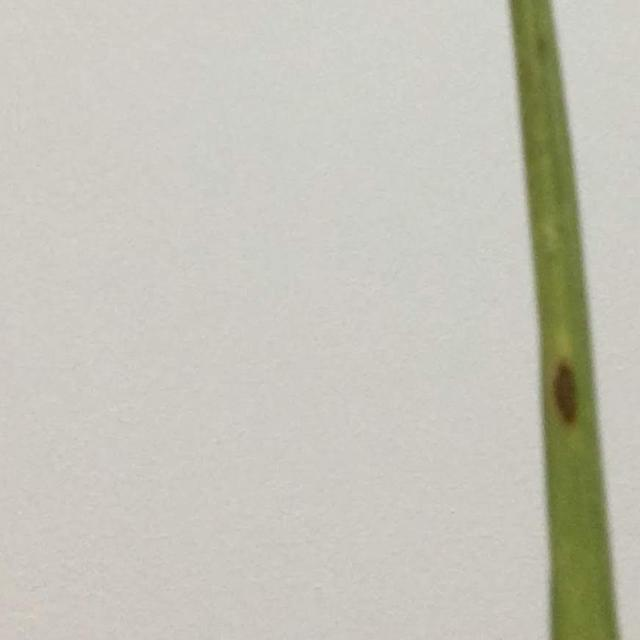Leaf blast: (544, 354, 594, 426)
